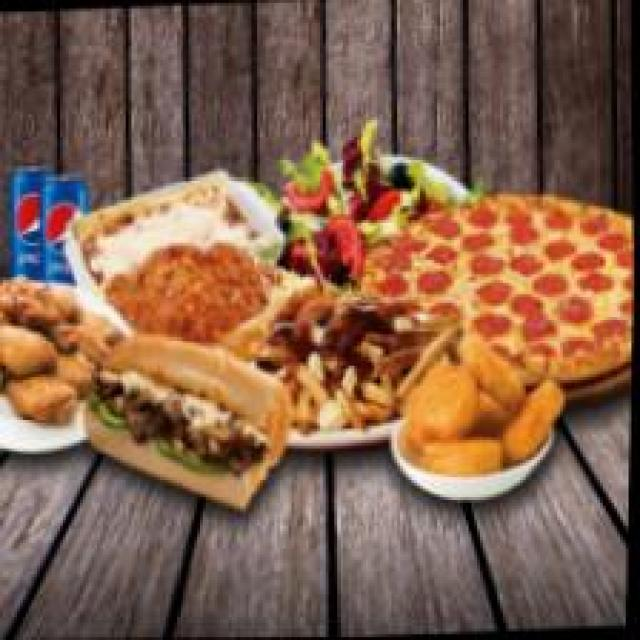Chicken Wings: (0, 251, 109, 420)
